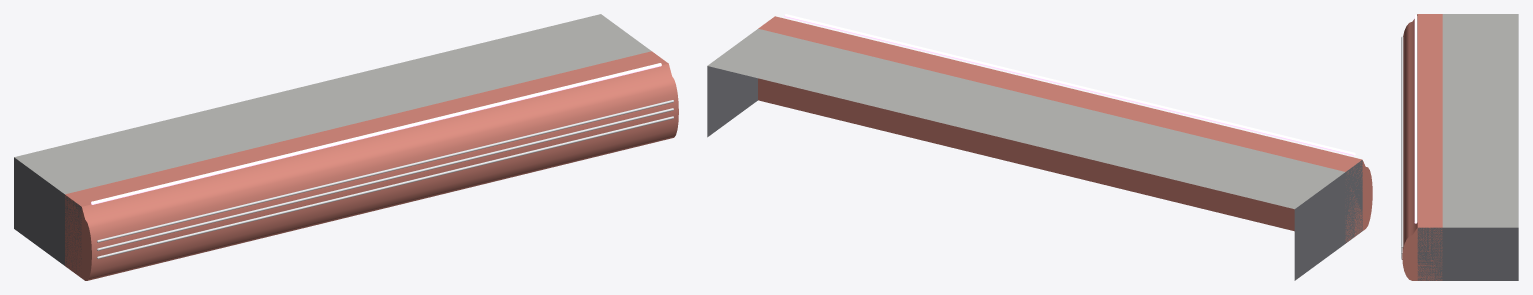
Rendered from retro_cap_band_6.glb.
The picture shows the model from 3 angles, left to right: view 1: azimuth 30°, elevation 25°; view 2: azimuth 150°, elevation 25°; view 3: azimuth 270°, elevation 25°; orthographic projection. The views are drawn at different scales.
Parts seen in each view (by area): view 1: retro_cap_band_6; view 2: retro_cap_band_6; view 3: retro_cap_band_6.
Part boxes in pixels (bbox=[...]): retro_cap_band_6: bbox=[14, 14, 678, 280]; retro_cap_band_6: bbox=[707, 14, 1372, 280]; retro_cap_band_6: bbox=[1401, 14, 1518, 280].
Bounding box in the file's own units: 6 × 0.7368 × 1.39.
